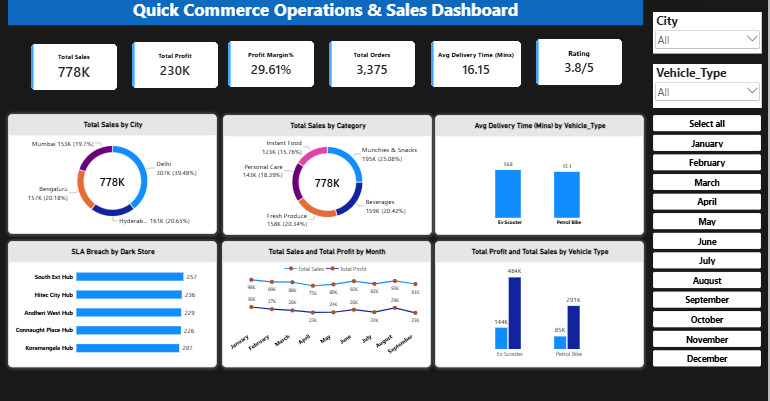

Layout of this report page (visuals, bound fields, positions):
{"tool":"powerbi","page":{"name":"Page 1","canvas":[1920,1080],"ordinal":0},"visuals":[{"type":"textbox","title":"Quick Commerce Operations & Sales Dashboard","box":[20,0,1588,68],"z":0},{"type":"cardVisual","fields":{"Data":["Fact_Orders.Total Sales"]},"box":[74,112,220,120],"z":1000},{"type":"cardVisual","fields":{"Data":["Fact_Orders.Total Profit"]},"box":[328,108,220,120],"z":2000},{"type":"cardVisual","fields":{"Data":["Fact_Orders.Profit Margin%"]},"box":[568,106,220,120],"z":3000},{"type":"cardVisual","fields":{"Data":["Fact_Orders.Avg Delivery Time"]},"box":[1074,106,230,120],"z":4000},{"type":"cardVisual","fields":{"Data":["Fact_Orders.Total Orders"]},"box":[820,106,220,120],"z":5000},{"type":"cardVisual","fields":{"Data":["Fact_Orders.Rating"]},"box":[1338,101,220,120],"z":6000},{"type":"donutChart","fields":{"Category":["Dim_DarkStores.City"],"Y":["Fact_Orders.Total Sales"]},"box":[20.5,291.2,522,300],"z":7000},{"type":"lineChart","fields":{"Category":["Calendar_Table.Date.Variation.Date Hierarchy.Month"],"Y":["Fact_Orders.Total Sales","Fact_Orders.Total Profit"]},"box":[556,608,522,316],"z":8000},{"type":"clusteredBarChart","title":"SLA Breach by Dark Store","fields":{"Category":["Dim_DarkStores.Store_Name"],"Y":["Fact_Orders.Late Deliveries"]},"box":[20,608,522,316],"z":9000},{"type":"donutChart","fields":{"Category":["Dim_Products.Category"],"Y":["Fact_Orders.Total Sales"]},"box":[556.3,292,522,300],"z":10000},{"type":"clusteredColumnChart","fields":{"Category":["Dim_Riders.Vehicle_Type"],"Y":["Fact_Orders.Avg Delivery Time"]},"box":[1086.3,292,522,300],"z":11000},{"type":"slicer","title":"City","fields":{"Values":["Dim_DarkStores.City"]},"box":[1632,34,272,104],"z":13000},{"type":"advancedSlicerVisual","fields":{"Values":["Calendar_Table.Date.Variation.Date Hierarchy.Month"]},"box":[1631.7,291.7,270,633.3],"z":14000},{"type":"slicer","fields":{"Values":["Dim_Riders.Vehicle_Type"]},"box":[1632,166,272,110],"z":15000},{"type":"clusteredColumnChart","title":"Total Profit and Total Sales by Vehicle Type","fields":{"Category":["Dim_Riders.Vehicle_Type"],"Y":["Fact_Orders.Total Profit","Fact_Orders.Total Sales"]},"box":[1086.7,607.8,522,316],"z":15001}]}

Visuals, with their boxes on the page's 1920x1080 design canvas (x1, y1, x2, y2). These are canvas units, not pixel positions in the 770x401 screenshot, which may show the page scaled, cropped or inside an application window:
"Quick Commerce Operations & Sales Dashboard" textbox: (x1=20, y1=0, x2=1608, y2=68)
cardVisual - Fact_Orders.Total Sales: (x1=74, y1=112, x2=294, y2=232)
cardVisual - Fact_Orders.Total Profit: (x1=328, y1=108, x2=548, y2=228)
cardVisual - Fact_Orders.Profit Margin%: (x1=568, y1=106, x2=788, y2=226)
cardVisual - Fact_Orders.Avg Delivery Time: (x1=1074, y1=106, x2=1304, y2=226)
cardVisual - Fact_Orders.Total Orders: (x1=820, y1=106, x2=1040, y2=226)
cardVisual - Fact_Orders.Rating: (x1=1338, y1=101, x2=1558, y2=221)
donutChart - Dim_DarkStores.City x Fact_Orders.Total Sales: (x1=20, y1=291, x2=542, y2=591)
lineChart - Calendar_Table.Date.Variation.Date Hierarchy.Month x Fact_Orders.Total Sales: (x1=556, y1=608, x2=1078, y2=924)
"SLA Breach by Dark Store" clusteredBarChart: (x1=20, y1=608, x2=542, y2=924)
donutChart - Dim_Products.Category x Fact_Orders.Total Sales: (x1=556, y1=292, x2=1078, y2=592)
clusteredColumnChart - Dim_Riders.Vehicle_Type x Fact_Orders.Avg Delivery Time: (x1=1086, y1=292, x2=1608, y2=592)
"City" slicer: (x1=1632, y1=34, x2=1904, y2=138)
advancedSlicerVisual - Calendar_Table.Date.Variation.Date Hierarchy.Month: (x1=1632, y1=292, x2=1902, y2=925)
slicer - Dim_Riders.Vehicle_Type: (x1=1632, y1=166, x2=1904, y2=276)
"Total Profit and Total Sales by Vehicle Type" clusteredColumnChart: (x1=1087, y1=608, x2=1609, y2=924)
